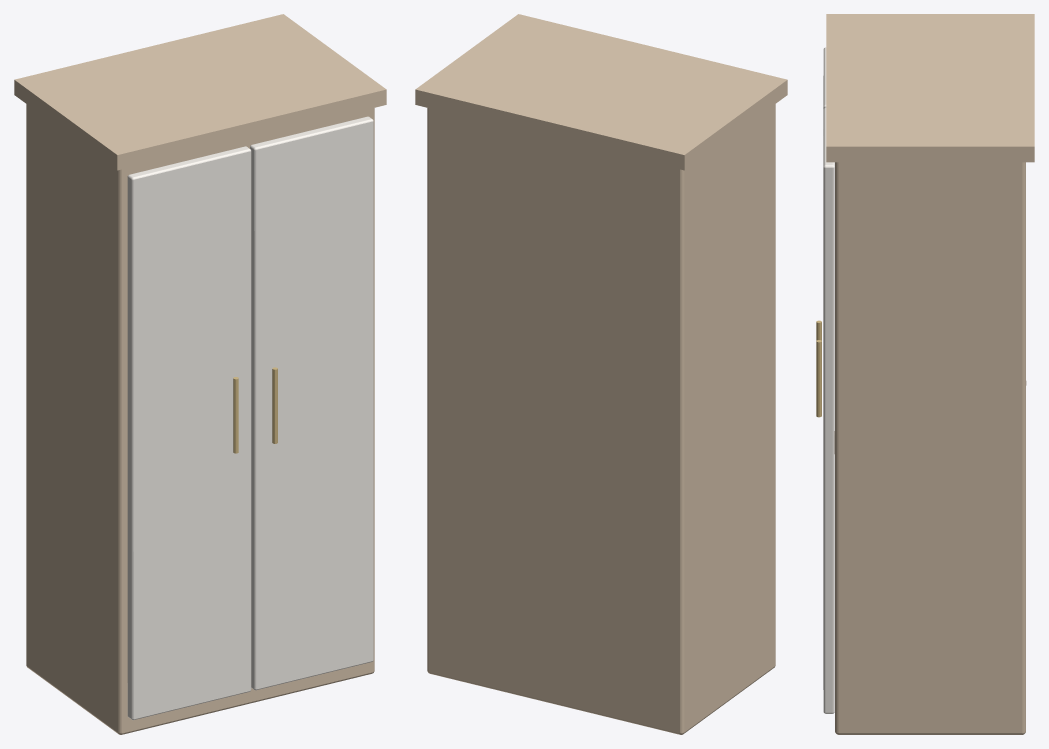
Rendered from Wardrobe_01.glb.
The picture shows the model from 3 angles, left to right: view 1: azimuth 30°, elevation 25°; view 2: azimuth 150°, elevation 25°; view 3: azimuth 270°, elevation 25°; orthographic projection.
Parts seen in each view (by area): view 1: wardrobe_door_2, wardrobe_door_4, wardrobe_carcass_1, wardrobe_crown_6; view 2: wardrobe_carcass_1, wardrobe_crown_6; view 3: wardrobe_carcass_1, wardrobe_crown_6, wardrobe_door_4, rod_5.
Part boxes in pixels (x1,y1,x2,y2): wardrobe_door_2: (127,146,251,720); wardrobe_door_4: (250,116,373,690); wardrobe_carcass_1: (26,104,374,734); wardrobe_crown_6: (14,14,386,170); wardrobe_carcass_1: (427,104,775,734); wardrobe_crown_6: (415,14,787,170); wardrobe_carcass_1: (834,162,1026,734); wardrobe_crown_6: (826,14,1034,162); wardrobe_door_4: (823,107,834,713); rod_5: (816,340,821,417).
Size of the model in its own units: 1.1 by 2.29 by 0.765.
